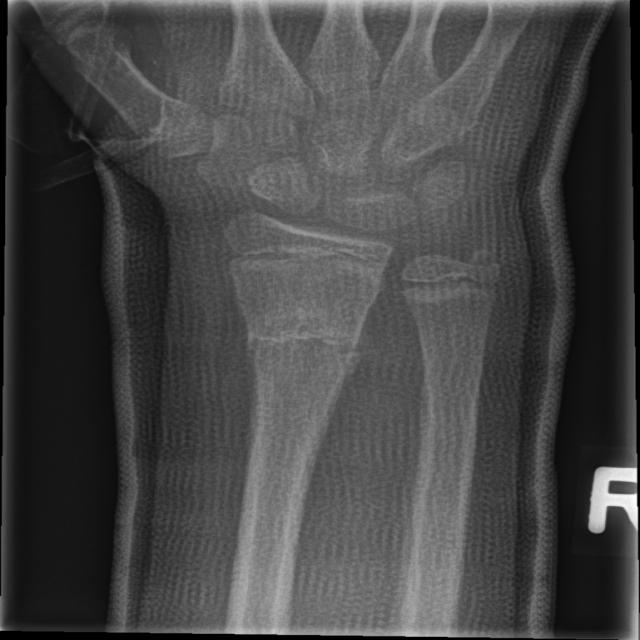radius fracture: (218, 285, 384, 402)
